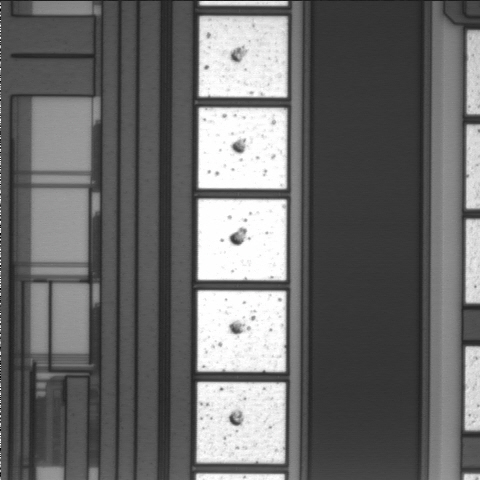pad: (197, 290, 286, 372), (198, 108, 287, 189), (198, 199, 287, 280), (197, 382, 286, 463), (199, 16, 287, 97)
